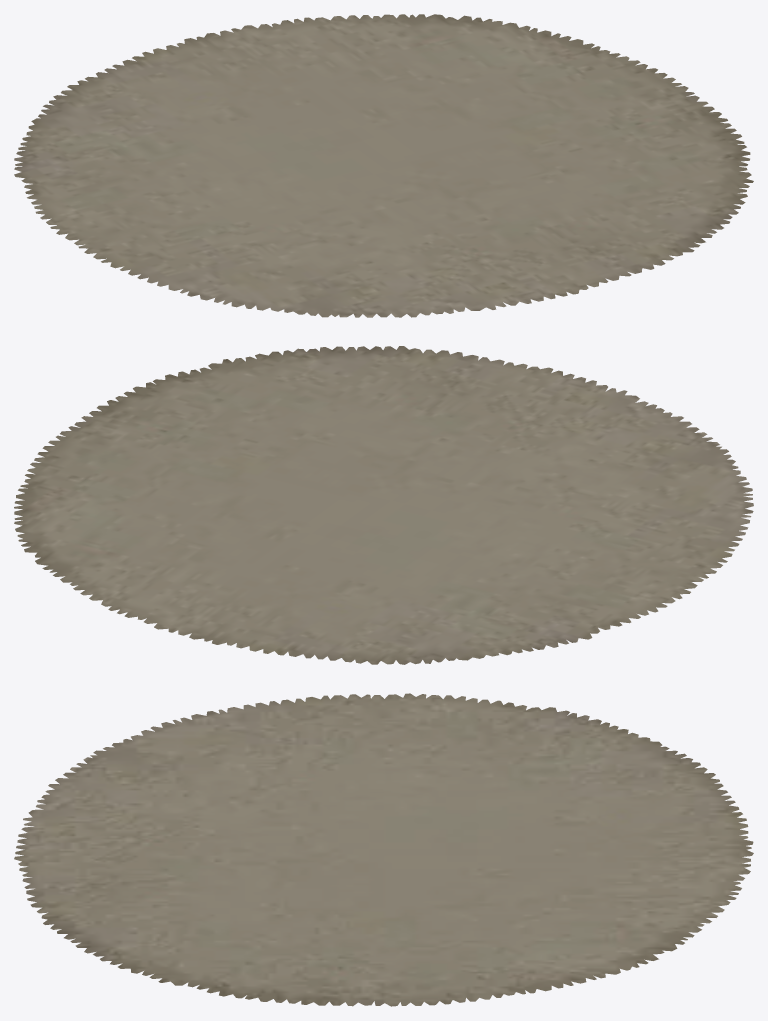
3 views of the same model, one above another, from view 1: azimuth 30°, elevation 25°; view 2: azimuth 150°, elevation 25°; view 3: azimuth 270°, elevation 25° (orthographic). The views are drawn at different scales.
Bounding box in the file's own units: 29.93 × 0.0292 × 29.89.
Materials: 1 (1 with a texture image).
